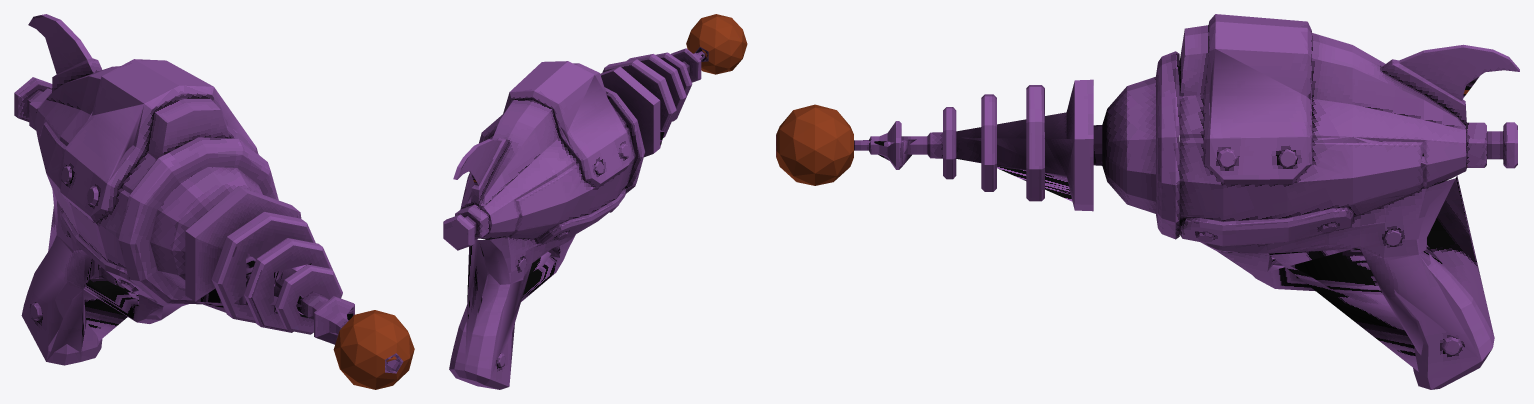
File: item_teleport_gun_galaxy.glb
The picture shows the model from 3 angles, left to right: view 1: azimuth 30°, elevation 25°; view 2: azimuth 150°, elevation 25°; view 3: azimuth 270°, elevation 25°; orthographic projection. The views are drawn at different scales.
Visible parts, largest first — view 1: Cylinder.027; view 2: Cylinder.027; view 3: Cylinder.027.
Boxes of the visible parts, <box> form: Cylinder.027: <box>14,14,414,389</box>; Cylinder.027: <box>443,14,747,389</box>; Cylinder.027: <box>776,14,1519,389</box>.
Bounding box in the file's own units: 0.1455 × 0.2894 × 0.5416.
1 material, 1 textured.
